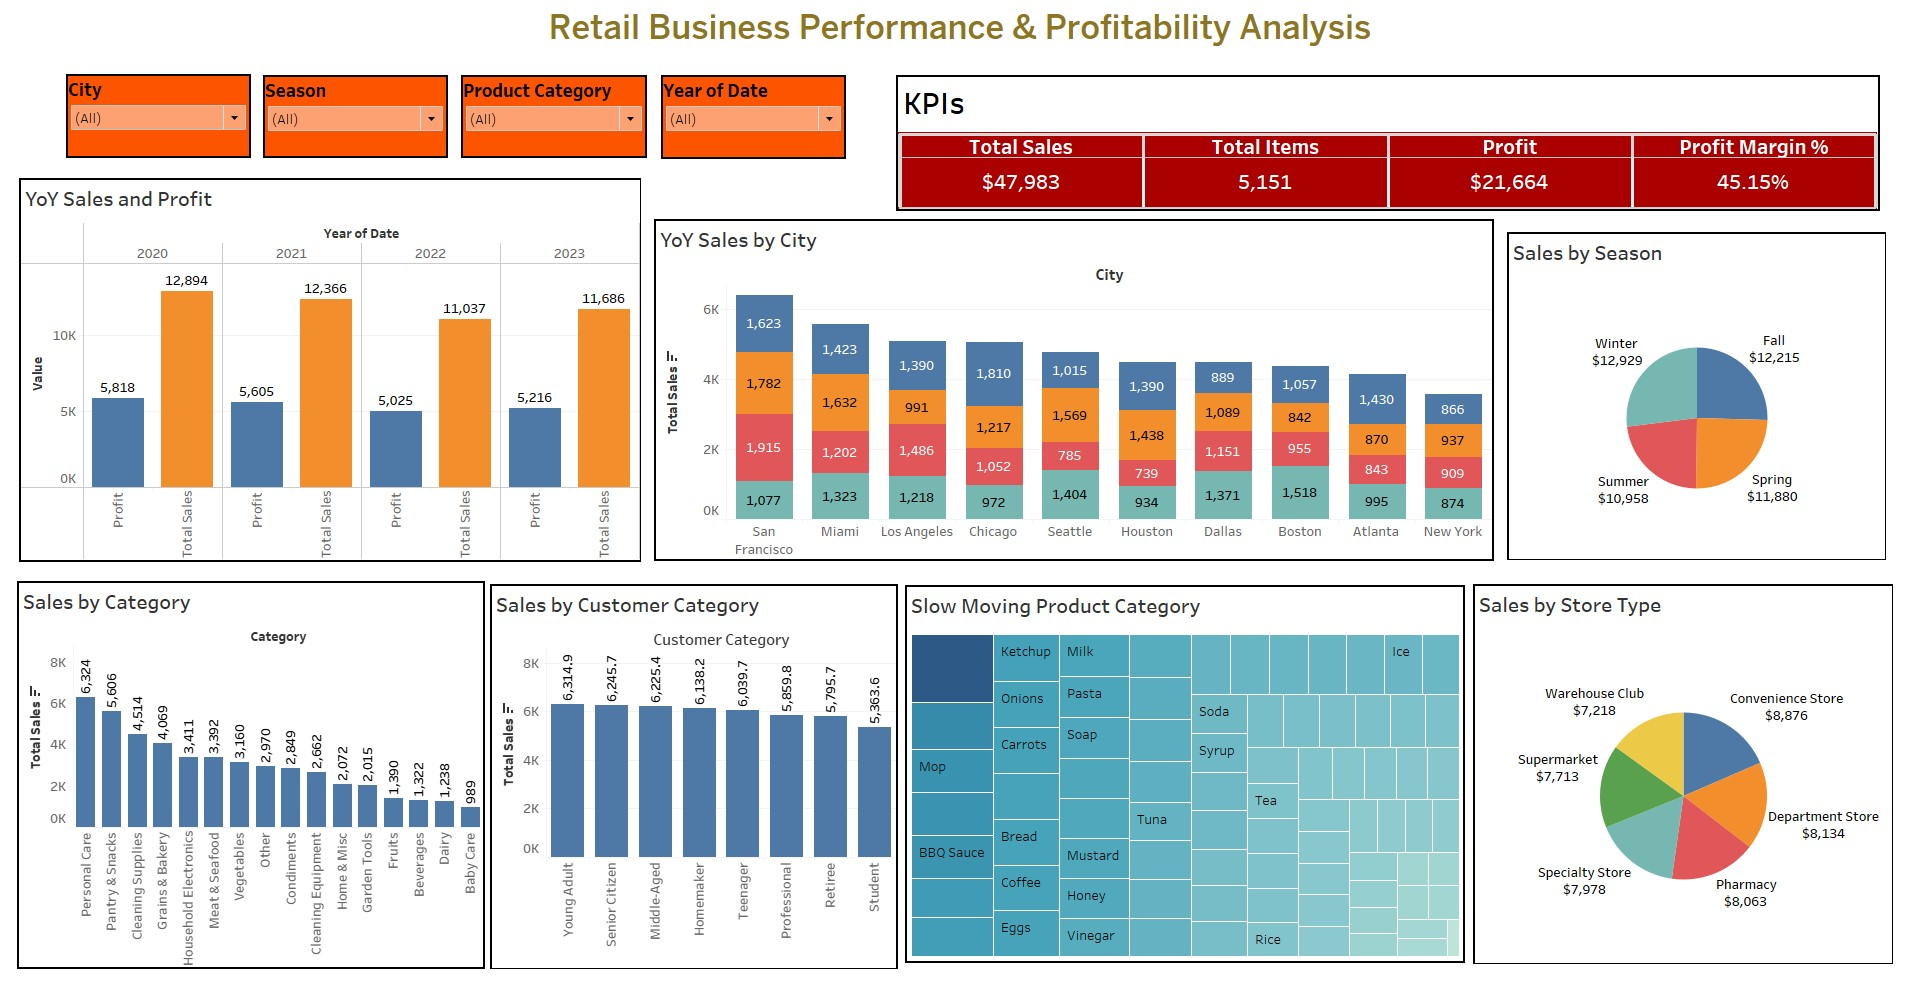

What the dashboard file says about the page in this screenshot:
{"tool":"tableau","page":{"name":"Dashboard 1","canvas":[1000,1000],"units":"permille","ordinal":0},"visuals":[{"type":"title","box":[4.8,10,990.4,59.9]},{"type":"filter","title":"KPIs","param":"[federated.147rlhs1k9m5h614jcqbi0b3pmi0].[none:City:nk]","box":[34.4,78.7,96.4,66.2]},{"type":"filter","title":"KPIs","param":"[federated.147rlhs1k9m5h614jcqbi0b3pmi0].[none:Season:nk]","box":[137,79.9,96.6,66.2]},{"type":"filter","title":"KPIs","param":"[federated.147rlhs1k9m5h614jcqbi0b3pmi0].[none:Product_Category:nk]","box":[240.1,79.9,96.9,66.2]},{"type":"filter","title":"KPIs","param":"[federated.147rlhs1k9m5h614jcqbi0b3pmi0].[yr:Date:ok]","box":[344.2,79.9,96.3,64.9]},{"type":"worksheet","title":"KPIs","mark":"Automatic","box":[466.6,79.9,512.4,137.3]},{"type":"worksheet","title":"YoY S&P","mark":"Bar","cols":["Date"],"box":[9.6,183.5,324.3,387]},{"type":"worksheet","title":"YoY Sales by City","mark":"Bar","rows":["Total_Sales"],"cols":["City"],"box":[340.6,224.7,437.4,344.6]},{"type":"worksheet","title":"Sal by Sea","mark":"Pie","box":[784.8,237.2,197.7,330.8]},{"type":"worksheet","title":"Sal Cat","mark":"Automatic","rows":["Total_Sales"],"cols":["Category"],"box":[9.1,589.3,243.8,390.8]},{"type":"worksheet","title":"Sal CusCat","mark":"Automatic","rows":["Total_Sales"],"cols":["Customer_Category"],"box":[255.3,591.8,212.4,388.3]},{"type":"worksheet","title":"Sal Store Type","mark":"Pie","box":[767.1,591.8,219.1,383.3]},{"type":"worksheet","title":"Slo pro Cat","mark":"Automatic","box":[471.1,593,291.8,380.8]}]}

Visuals, with their boxes on the dashboard's canvas, which has no fixed pixel size, in thousandths of its width and height (x1, y1, x2, y2). These are canvas units, not pixel positions in the 1915x987 screenshot, which may show the page scaled, cropped or inside an application window:
title: pyautogui.locateOnScreen(5, 10, 995, 70)
"KPIs" filter: pyautogui.locateOnScreen(34, 79, 131, 145)
"KPIs" filter: pyautogui.locateOnScreen(137, 80, 234, 146)
"KPIs" filter: pyautogui.locateOnScreen(240, 80, 337, 146)
"KPIs" filter: pyautogui.locateOnScreen(344, 80, 440, 145)
"KPIs" worksheet: pyautogui.locateOnScreen(467, 80, 979, 217)
"YoY S&P" worksheet (Bar marks): pyautogui.locateOnScreen(10, 184, 334, 570)
"YoY Sales by City" worksheet (Bar marks): pyautogui.locateOnScreen(341, 225, 778, 569)
"Sal by Sea" worksheet (Pie marks): pyautogui.locateOnScreen(785, 237, 982, 568)
"Sal Cat" worksheet: pyautogui.locateOnScreen(9, 589, 253, 980)
"Sal CusCat" worksheet: pyautogui.locateOnScreen(255, 592, 468, 980)
"Sal Store Type" worksheet (Pie marks): pyautogui.locateOnScreen(767, 592, 986, 975)
"Slo pro Cat" worksheet: pyautogui.locateOnScreen(471, 593, 763, 974)
